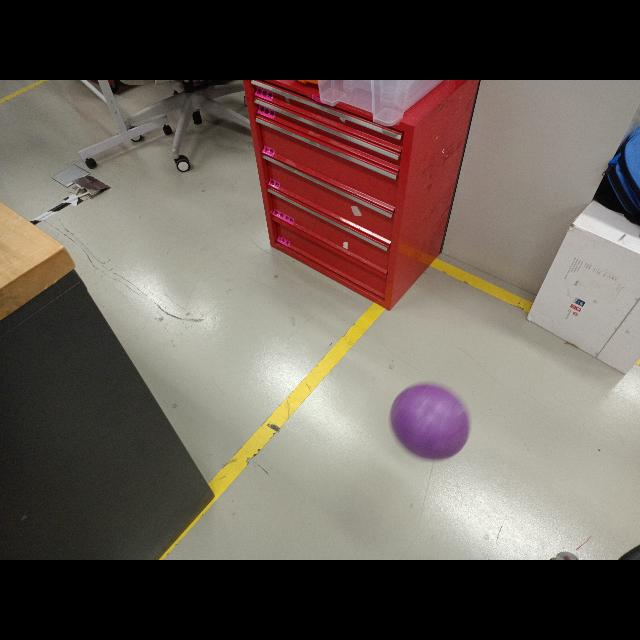P: (390, 382, 470, 460)
